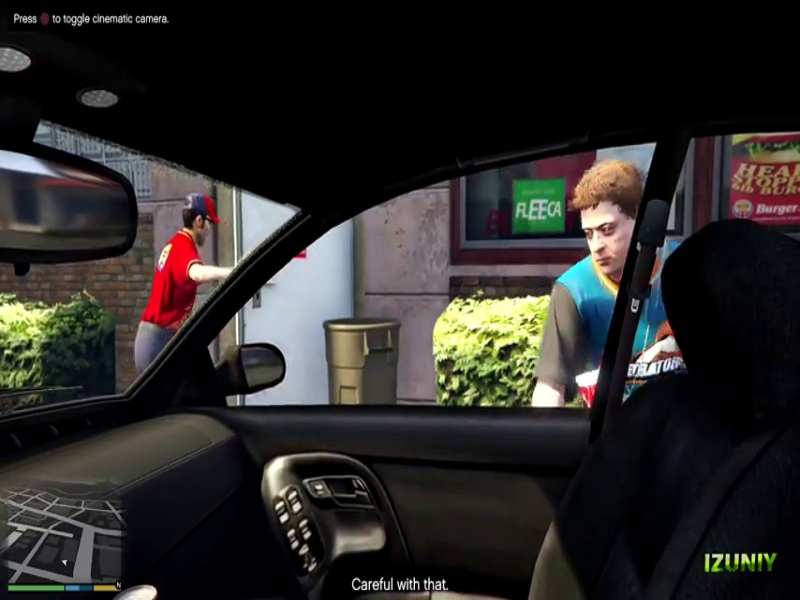licenseplate: (223, 138, 363, 187)
